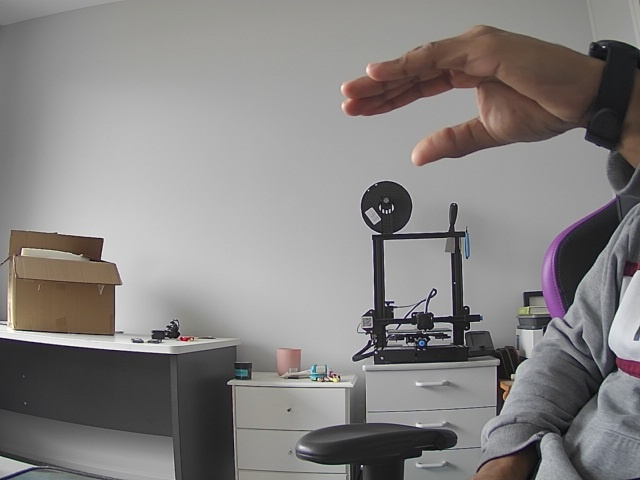No: (306, 7, 622, 171)
